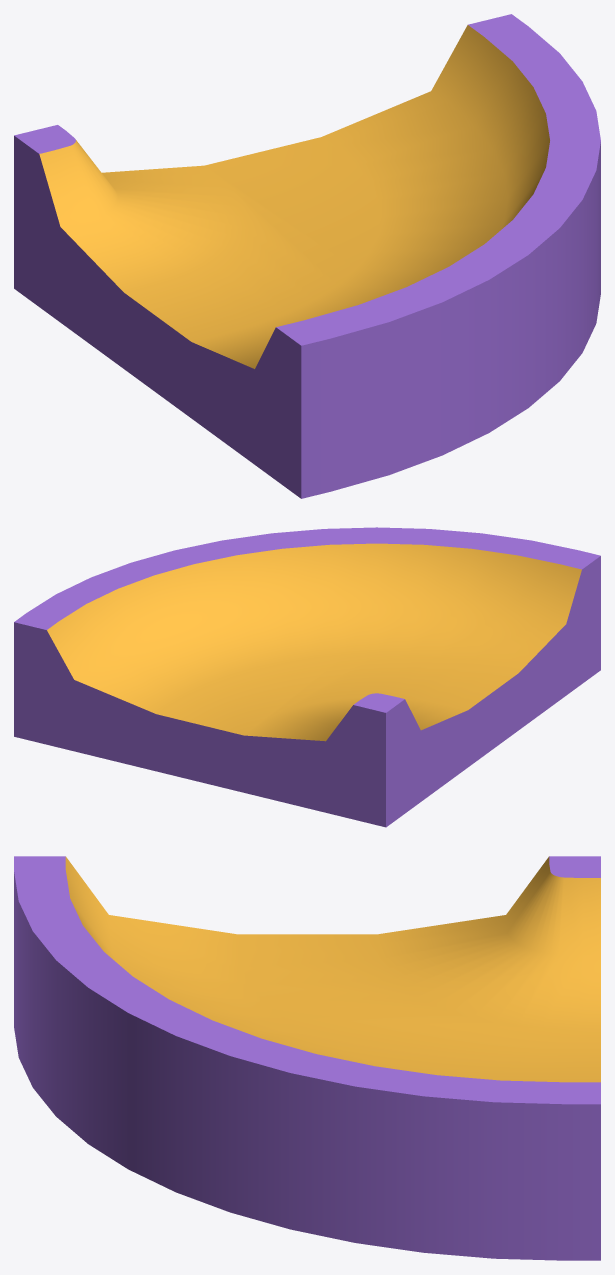
File: curve-wide-col.glb
3 views of the same model, one above another, from view 1: azimuth 30°, elevation 25°; view 2: azimuth 150°, elevation 25°; view 3: azimuth 270°, elevation 25° (orthographic). The views are drawn at different scales.
Visible parts, largest first — view 1: curve-wide-col; view 2: curve-wide-col; view 3: curve-wide-col.
Boxes of the visible parts, left/top/right/bottom form: curve-wide-col: left=14, top=14, right=600, bottom=498; curve-wide-col: left=14, top=527, right=600, bottom=827; curve-wide-col: left=14, top=856, right=600, bottom=1260.
Size of the model in its own units: 1.7 by 0.5 by 1.7.
Materials: 1 (1 with a texture image).
